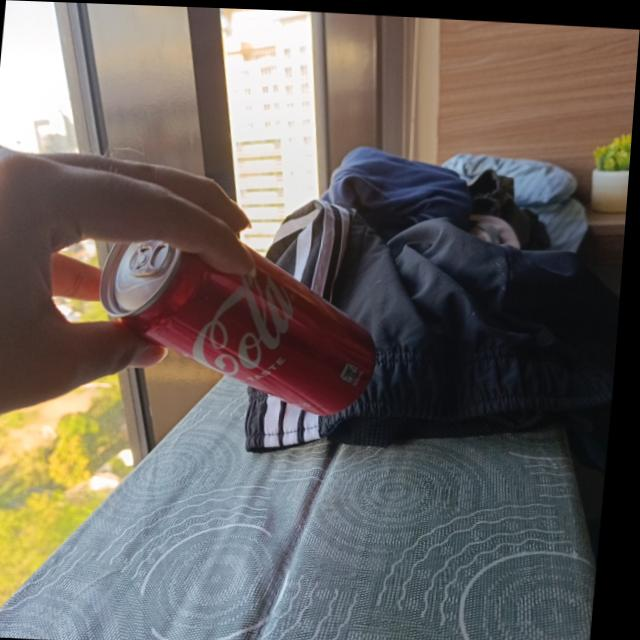coke: (95, 223, 394, 414)
